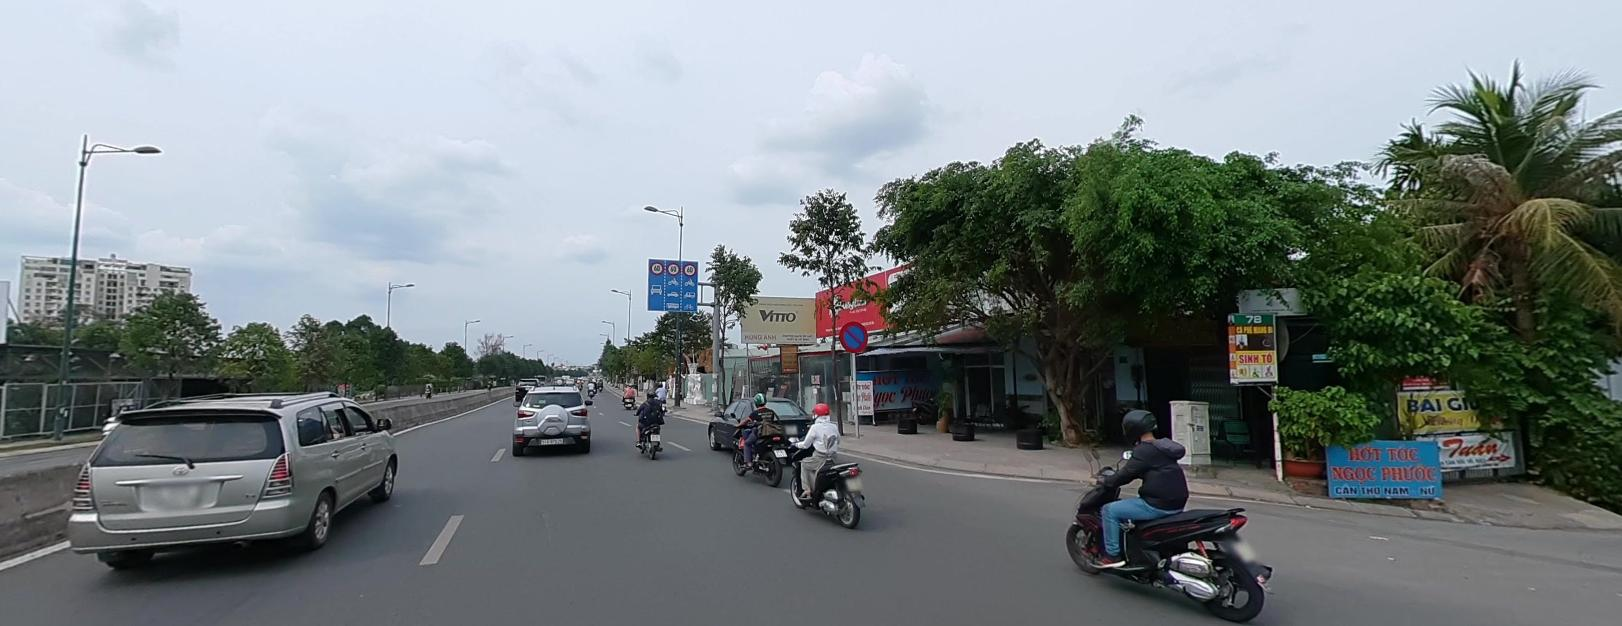Cam dung va do: (838, 318, 867, 353)
Gioi han toc do: (650, 259, 663, 273), (682, 261, 695, 274), (667, 260, 679, 273)
